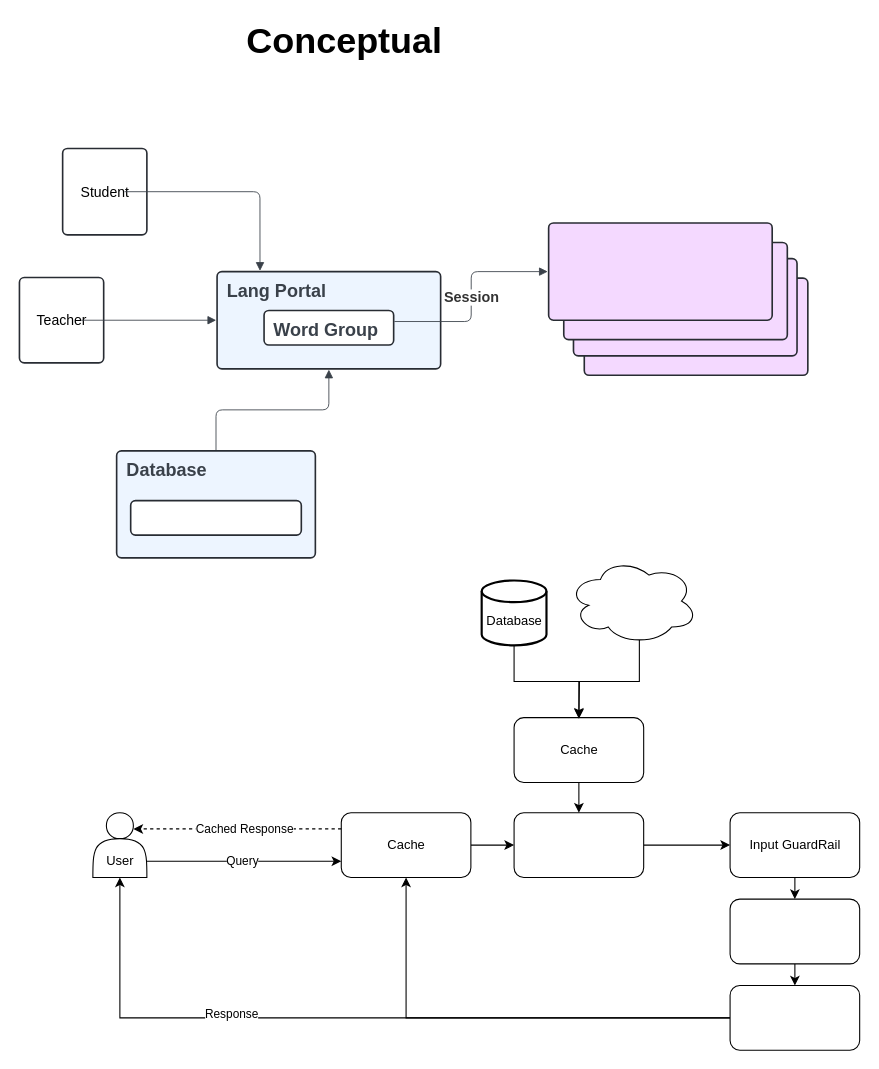
The diagram is 879 pixels wide and 1069 high, and some of its shapes have lost their labels. Each missing label, with the centre of its shape:
Content Construction: [578,845]
Core 200 words: [215,517]
Internet: [632,600]
LLM: [794,931]
Output GuardRail: [794,1017]
Study Activites: [660,271]
